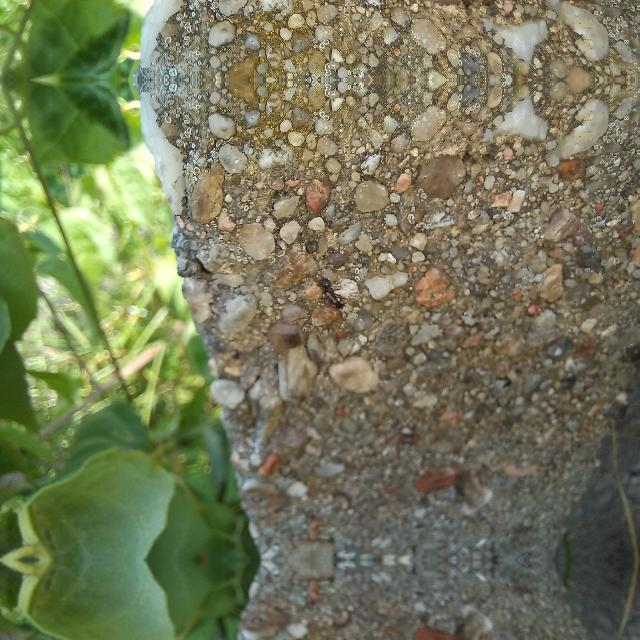Dolichoderus: (310, 272, 358, 314)
